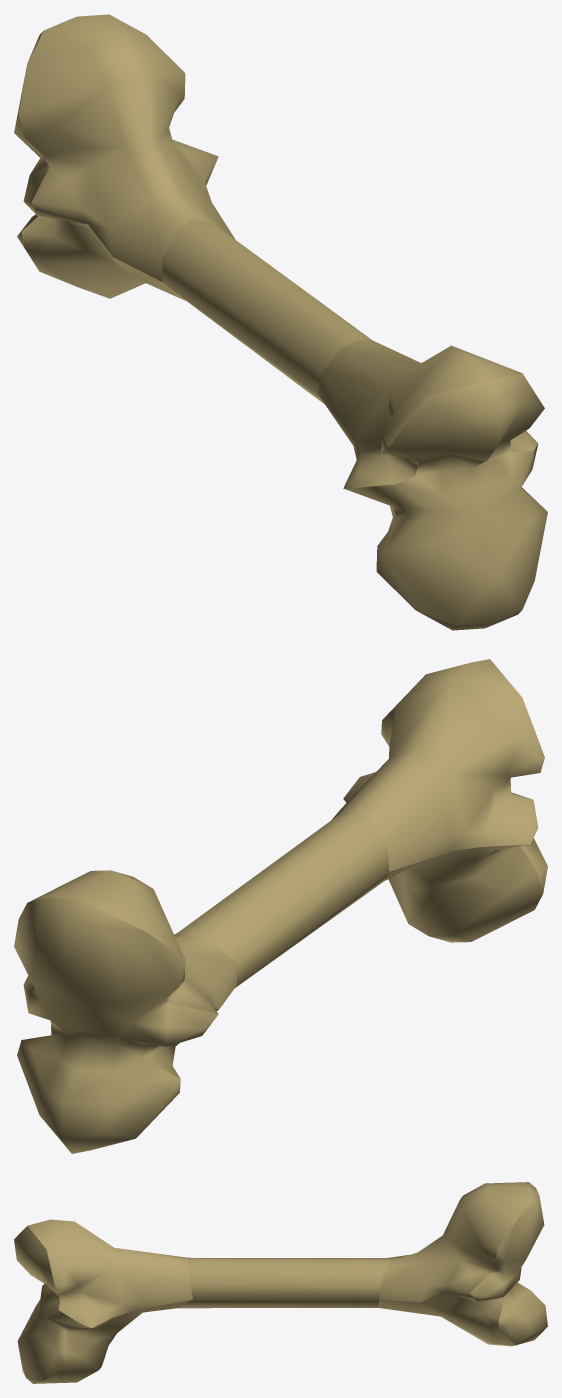
File: obj_artifact_fossil11.fbx
3 views of the same model, one above another, from view 1: azimuth 30°, elevation 25°; view 2: azimuth 150°, elevation 25°; view 3: azimuth 270°, elevation 25° (orthographic). The views are drawn at different scales.
Parts seen in each view (by area): view 1: lod0_obj_artifact_fossil11.001; view 2: lod0_obj_artifact_fossil11.001; view 3: lod0_obj_artifact_fossil11.001.
Boxes of the visible parts, bbox=[...] form: lod0_obj_artifact_fossil11.001: bbox=[14, 14, 547, 630]; lod0_obj_artifact_fossil11.001: bbox=[14, 659, 547, 1153]; lod0_obj_artifact_fossil11.001: bbox=[14, 1182, 547, 1383].
Bounding box in the file's own units: 3.01 × 4.92 × 12.24.
